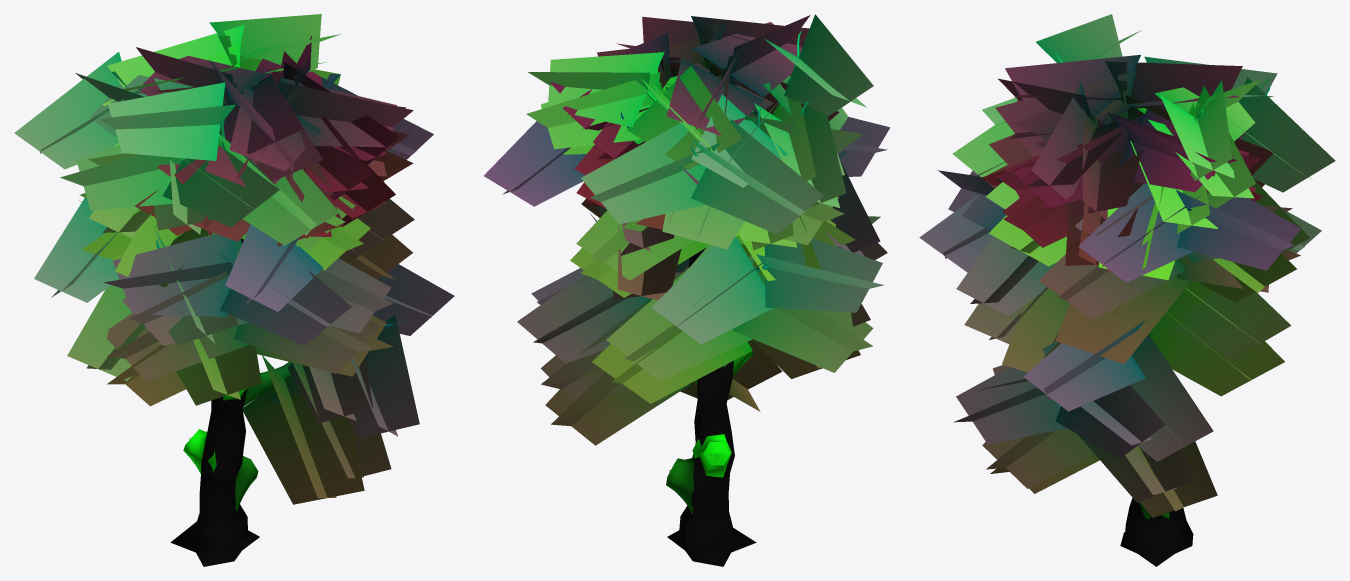
File: M_Realistic7_7.fbx
3 views of the same model, side by side, from view 1: azimuth 30°, elevation 25°; view 2: azimuth 150°, elevation 25°; view 3: azimuth 270°, elevation 25° (orthographic). The views are drawn at different scales.
Parts seen in each view (by area): view 1: Tree_7; view 2: Tree_7; view 3: Tree_7.
Boxes of the visible parts, x1,y1,x2,y2 form: Tree_7: [14, 14, 454, 566]; Tree_7: [484, 14, 890, 566]; Tree_7: [919, 14, 1335, 566].
Size of the model in its own units: 1101 by 1414 by 1102.
